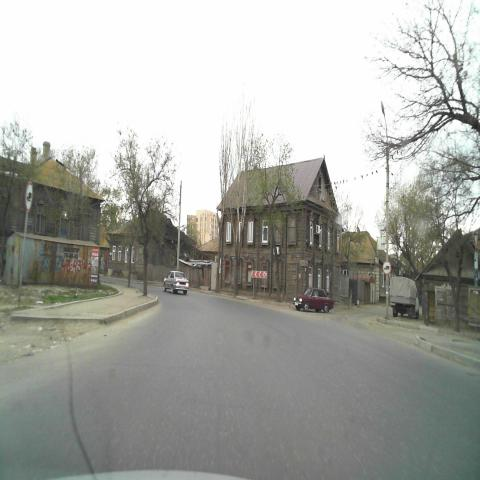3_4_1: (25, 182, 34, 212), (383, 260, 391, 274)
